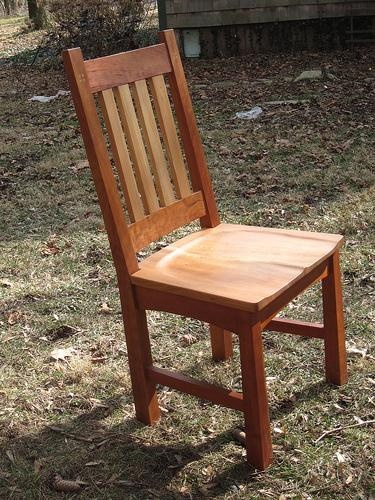obstacle: (64, 30, 346, 468)
